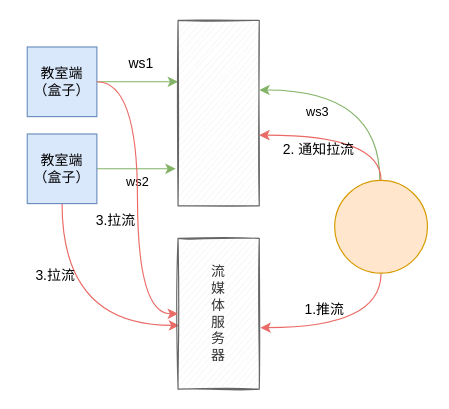
This 449x409 diagram has some shape labels left out. The centre of each missing label's shape, as x and y in pixels:
WS 服 务 器: the point at 218,112
投屏端（Pad）: the point at 380,226
